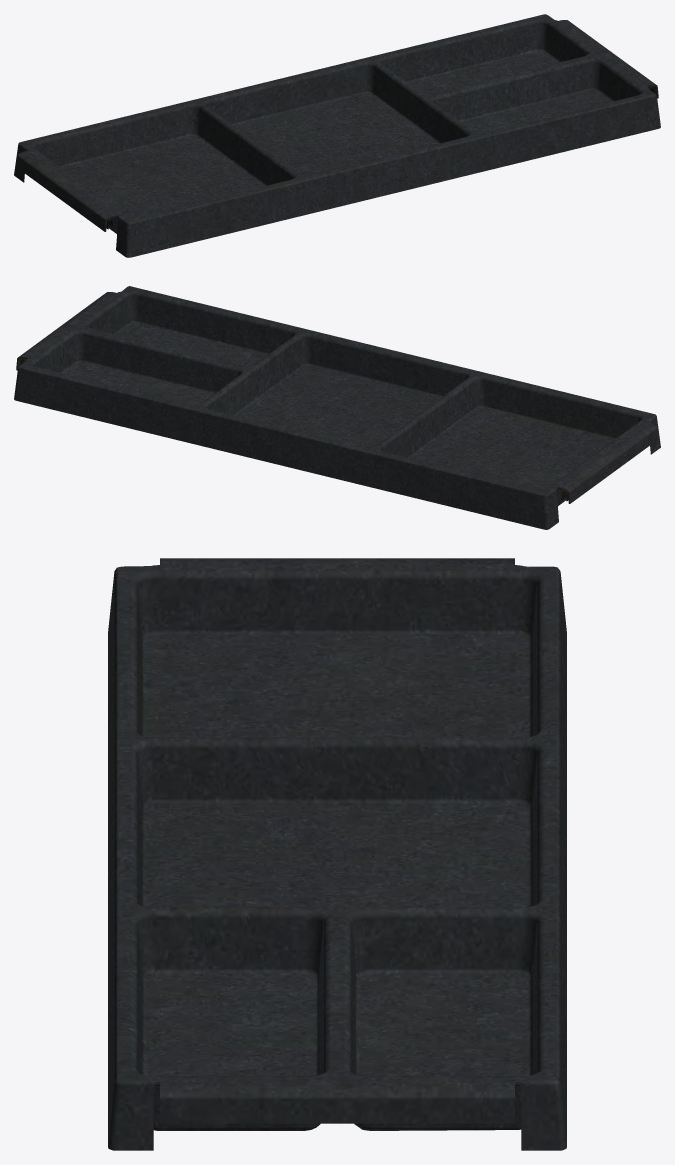
File: 09 - IVAR - 層板, 深灰色毛氈, 83x30 公分 IKEA 線上購物.glb
3 views of the same model, one above another, from view 1: azimuth 30°, elevation 25°; view 2: azimuth 150°, elevation 25°; view 3: azimuth 270°, elevation 25° (orthographic). The views are drawn at different scales.
Visible parts, largest first — view 1: model; view 2: model; view 3: model.
Part boxes in pixels (left/top/right/bottom): model: left=14, top=14, right=660, bottom=257; model: left=14, top=286, right=660, bottom=529; model: left=108, top=558, right=566, bottom=1150.
Bounding box in the file's own units: 0.8422 × 0.0481 × 0.302.
Materials: 1 (1 with a texture image).
